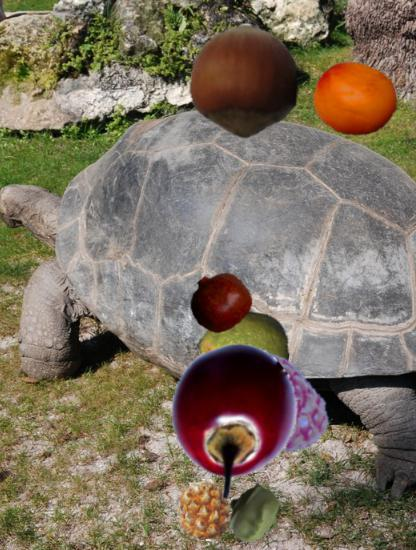Apricot: (313, 58, 398, 143)
Kohlrabi: (223, 484, 284, 545)
Limes: (198, 307, 290, 399)
Nut: (186, 24, 301, 139)
Pineapple: (172, 479, 235, 542)
Pomegranate: (189, 271, 251, 333)
Raspberry: (198, 347, 322, 471)
Tamarillo: (166, 344, 300, 478)
